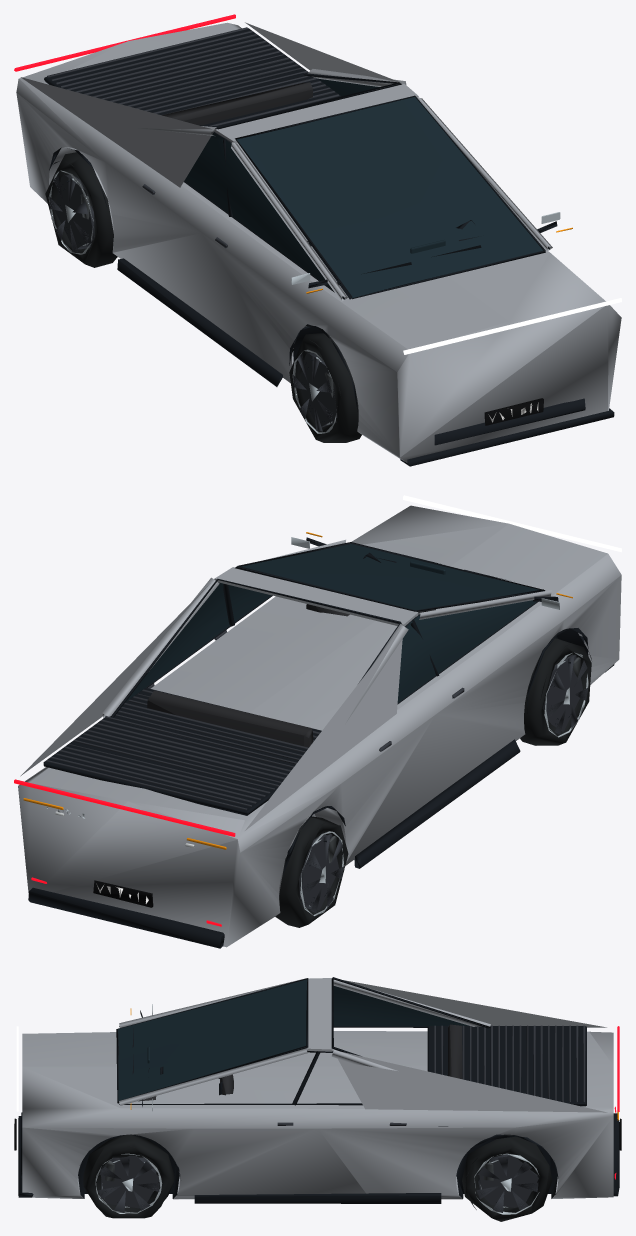
The model's file is cybertruck-far.glb.
3 views of the same model, one above another, from view 1: azimuth 30°, elevation 25°; view 2: azimuth 150°, elevation 25°; view 3: azimuth 270°, elevation 25° (orthographic). The views are drawn at different scales.
Parts seen in each view (by area): view 1: chassis.001__Automotive clearcoat, chassis.001__Solar glass, chassis.001__Satin black trim, chassis.001__Graphite alloy, wheel_FL.001__Tyre rubber, wheel_RL.001__Tyre rubber, chassis.001__Charcoal upholstery, wheel_RL.001__Graphite alloy, wheel_FL.001__Graphite alloy, chassis.001__White LED optics, chassis.001__Red LED optics, chassis.001__Black registration plate; view 2: chassis.001__Automotive clearcoat, chassis.001__Satin black trim, chassis.001__Solar glass, chassis.001__Graphite alloy, chassis.001__Charcoal upholstery, wheel_FL.001__Tyre rubber, wheel_RL.001__Tyre rubber, wheel_RL.001__Graphite alloy, wheel_FL.001__Graphite alloy, chassis.001__Red LED optics, chassis.001__White LED optics, chassis.001__Black registration plate; view 3: chassis.001__Automotive clearcoat, chassis.001__Solar glass, chassis.001__Satin black trim, wheel_FR.001__Tyre rubber, wheel_RR.001__Tyre rubber, chassis.001__Graphite alloy, wheel_FR.001__Graphite alloy, wheel_RR.001__Graphite alloy, chassis.001__Charcoal upholstery, wheel_FR.001__Machined aluminium, wheel_RR.001__Machined aluminium.
Part boxes in pixels (x1,y1,x2,y2): chassis.001__Automotive clearcoat: (16,22,621,462); chassis.001__Solar glass: (184,78,542,298); chassis.001__Satin black trim: (44,28,614,466); chassis.001__Graphite alloy: (47,27,339,248); wheel_FL.001__Tyre rubber: (289,333,361,442); wheel_RL.001__Tyre rubber: (45,152,117,267); chassis.001__Charcoal upholstery: (162,82,339,285); wheel_RL.001__Graphite alloy: (49,173,94,252); wheel_FL.001__Graphite alloy: (293,352,337,431); chassis.001__White LED optics: (403,298,621,354); chassis.001__Red LED optics: (14,14,235,71); chassis.001__Black registration plate: (484,398,543,425); chassis.001__Automotive clearcoat: (18,505,621,947); chassis.001__Satin black trim: (28,537,614,948); chassis.001__Solar glass: (125,544,543,702); chassis.001__Graphite alloy: (46,630,464,810); chassis.001__Charcoal upholstery: (147,604,435,747); wheel_FL.001__Tyre rubber: (520,638,591,745); wheel_RL.001__Tyre rubber: (275,816,348,927); wheel_RL.001__Graphite alloy: (299,833,344,912); wheel_FL.001__Graphite alloy: (542,654,588,734); chassis.001__Red LED optics: (14,779,235,926); chassis.001__White LED optics: (403,495,621,552); chassis.001__Black registration plate: (93,880,153,907); chassis.001__Automotive clearcoat: (22,978,613,1199); chassis.001__Solar glass: (118,979,469,1100); chassis.001__Satin black trim: (18,977,619,1203); wheel_FR.001__Tyre rubber: (83,1134,174,1218); wheel_RR.001__Tyre rubber: (462,1134,552,1221); chassis.001__Graphite alloy: (277,1025,585,1125); wheel_FR.001__Graphite alloy: (98,1155,159,1212); wheel_RR.001__Graphite alloy: (476,1154,538,1212); chassis.001__Charcoal upholstery: (138,1024,462,1101); wheel_FR.001__Machined aluminium: (95,1153,162,1213); wheel_RR.001__Machined aluminium: (474,1153,539,1214).
Size of the model in its own units: 2.31 by 1.76 by 5.84.
